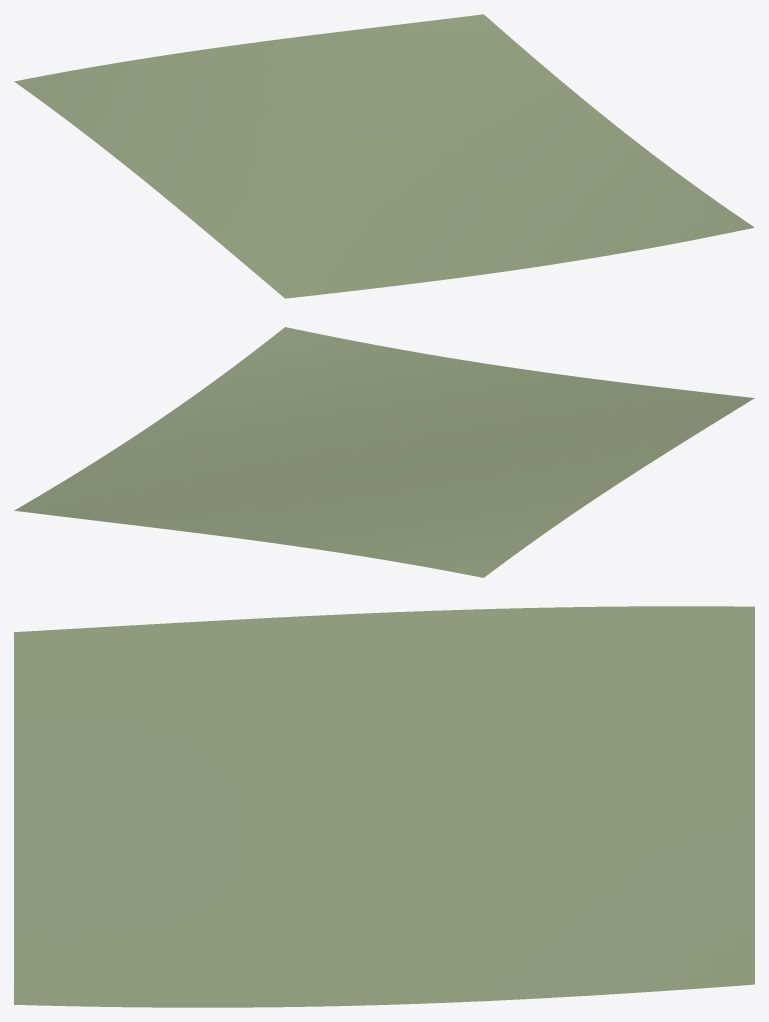
File: alpine-7-14.glb
3 views of the same model, one above another, from view 1: azimuth 30°, elevation 25°; view 2: azimuth 150°, elevation 25°; view 3: azimuth 270°, elevation 25° (orthographic). The views are drawn at different scales.
Parts seen in each view (by area): view 1: alpine-7-14; view 2: alpine-7-14; view 3: alpine-7-14.
Part boxes in pixels (box(x1,y1,x2,y2)): alpine-7-14: box(14, 14, 754, 298); alpine-7-14: box(14, 327, 754, 577); alpine-7-14: box(14, 606, 754, 1007).
Size of the model in its own units: 256 by 33.65 by 256.
